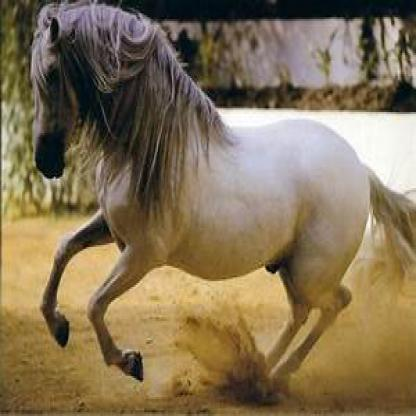horse: (29, 0, 415, 384)
